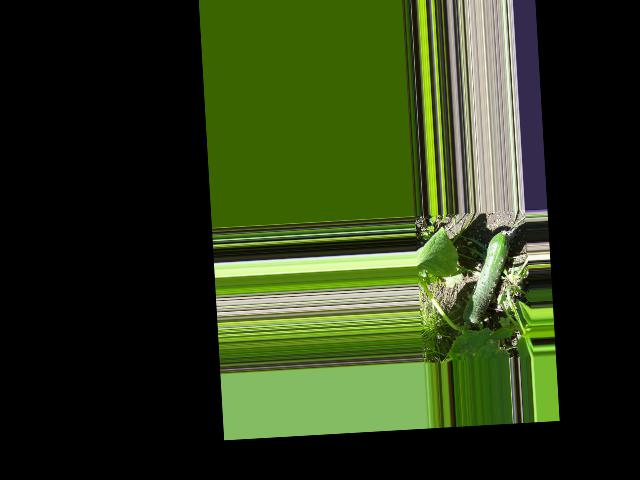cucumber: (458, 230, 514, 326)
